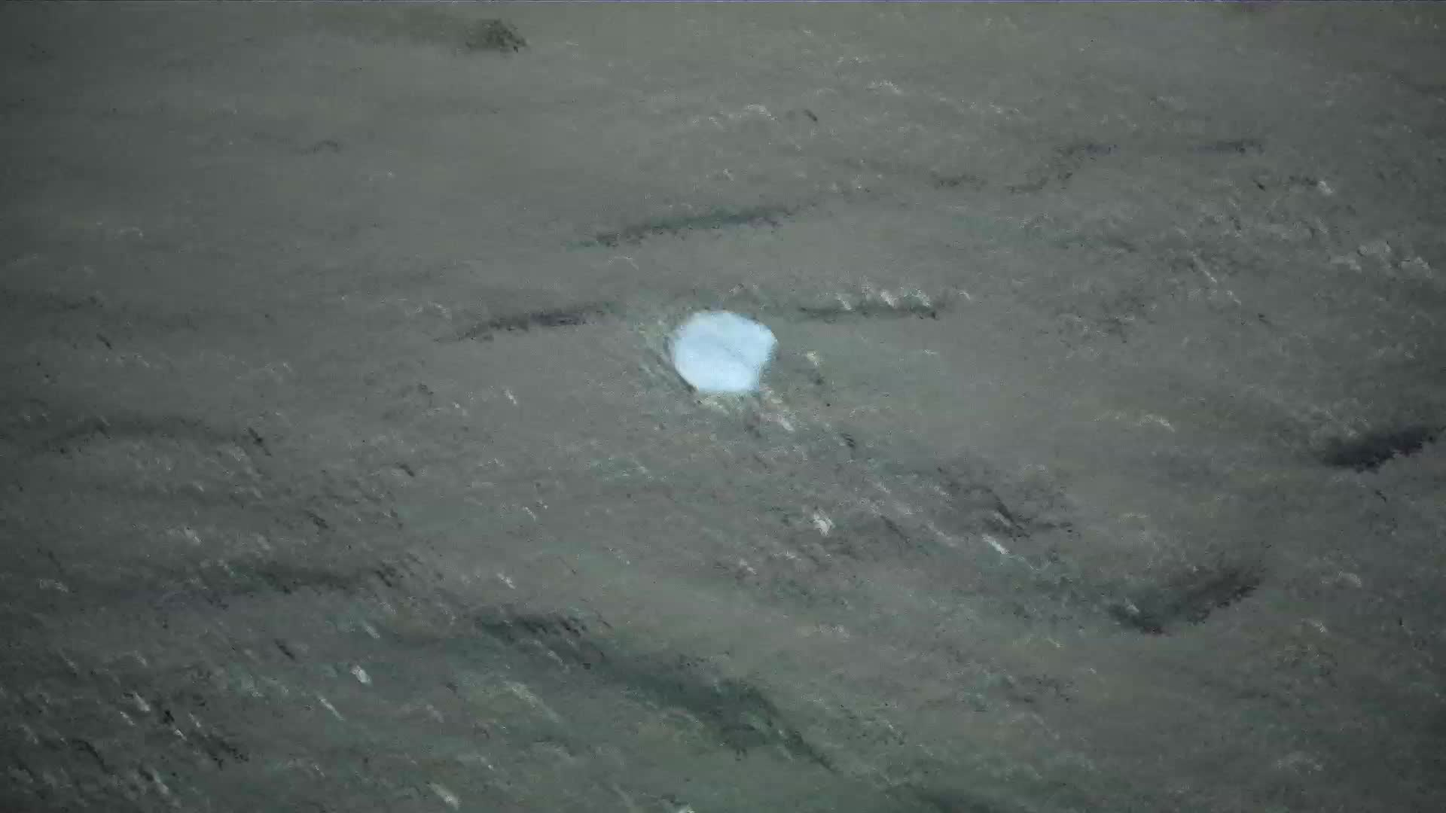Target: (660, 302, 786, 408)
